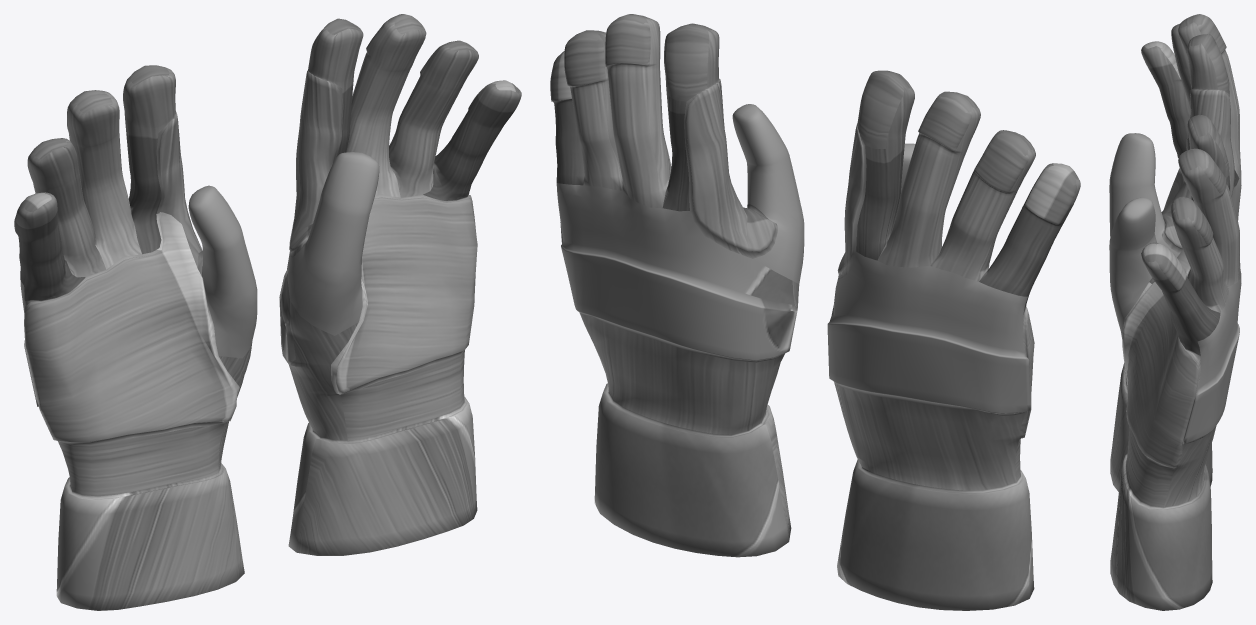
Rendered from gloves.FBX.
The picture shows the model from 3 angles, left to right: view 1: azimuth 30°, elevation 25°; view 2: azimuth 150°, elevation 25°; view 3: azimuth 270°, elevation 25°; orthographic projection. The views are drawn at different scales.
Visible parts, largest first — view 1: 3D_Object, 3D_Object001; view 2: 3D_Object001, 3D_Object; view 3: 3D_Object001, 3D_Object.
Part boxes in pixels (x1,y1,x2,y2): 3D_Object: [14, 65, 257, 610]; 3D_Object001: [279, 14, 521, 555]; 3D_Object001: [550, 14, 804, 557]; 3D_Object: [827, 70, 1080, 610]; 3D_Object001: [1109, 115, 1241, 610]; 3D_Object: [1109, 14, 1241, 491].
Size of the model in its own units: 37.69 by 36.15 by 9.58.
